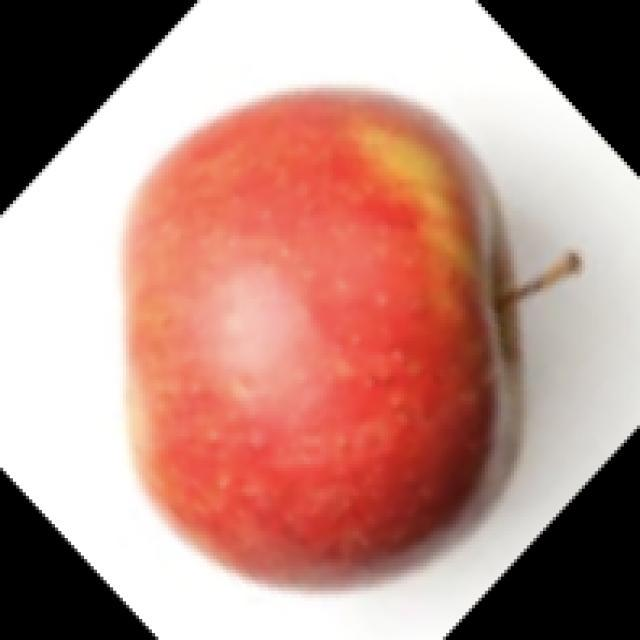Fresh Apple: (130, 85, 537, 587)
